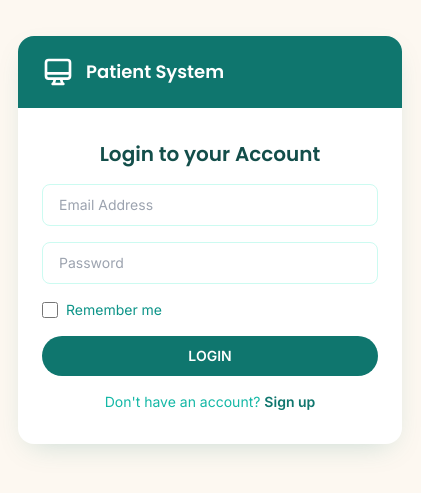
it: Login page › shows validation errors when submitted empty
What coordinates should you click on to do the following:
click the button "LOGIN"
I would click on:
 (210, 356)
Its box is [42, 336, 378, 376].
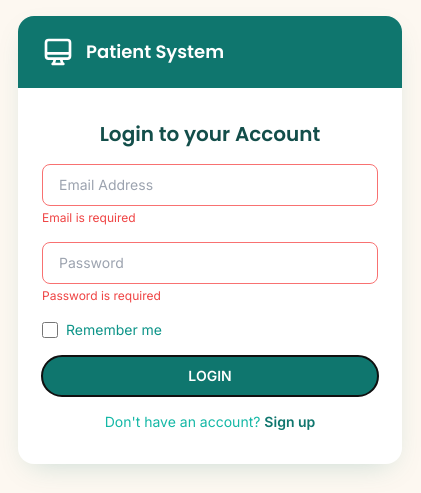
Now the text "Email is required" is shown, box [42, 210, 136, 225]
Now the text "Password is required" is shown, box [42, 288, 161, 303]
